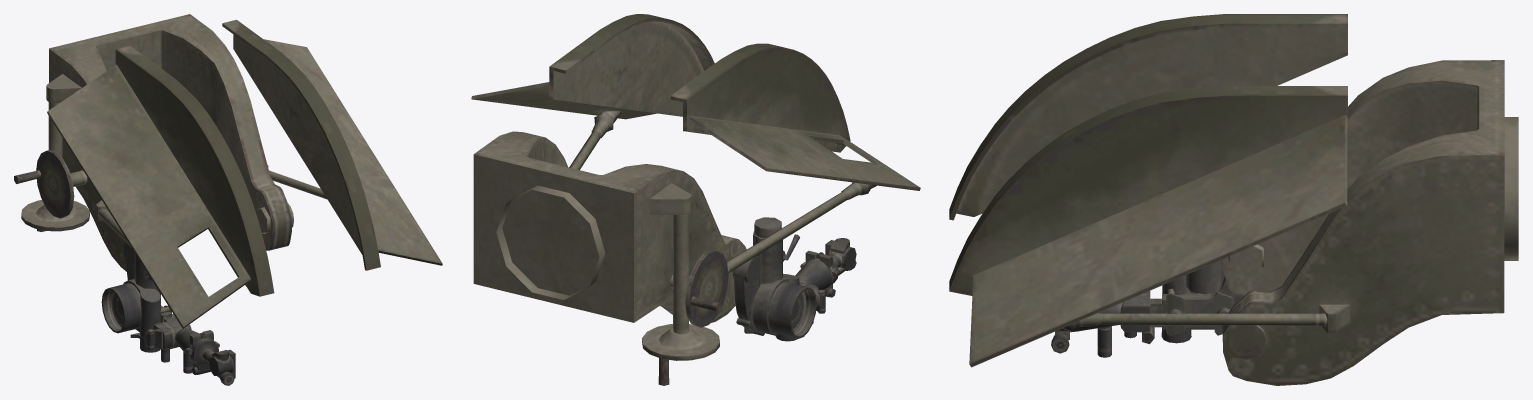
The model's file is Turret_01.glb.
3 renders of one model, left to right at view 1: azimuth 30°, elevation 25°; view 2: azimuth 150°, elevation 25°; view 3: azimuth 270°, elevation 25°, orthographic. The views are drawn at different scales.
Visible parts, largest first — view 1: set_0_group_0; view 2: set_0_group_0; view 3: set_0_group_0.
Part boxes in pixels (x1,y1,x2,y2): set_0_group_0: [14, 14, 442, 385]; set_0_group_0: [471, 14, 920, 385]; set_0_group_0: [949, 14, 1518, 385].
Size of the model in its own units: 0.9077 by 0.8492 by 1.25.
1 material, 1 textured.
